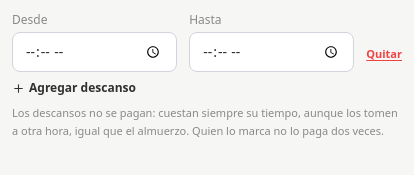
Scenario: ListaDeDescansos › con las dos horas dice cuánto dura ese descanso
In the time field named "Descanso 1 desde": [95, 52] box [12, 32, 177, 72], type "09:00"
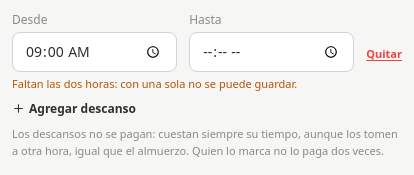
In the time field named "Descanso 1 hasta": [272, 52] box [189, 32, 354, 72], type "09:15"
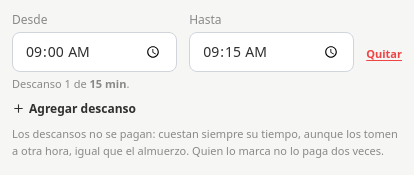
expect the text "15 min" is shown: met, box [90, 76, 126, 91]
